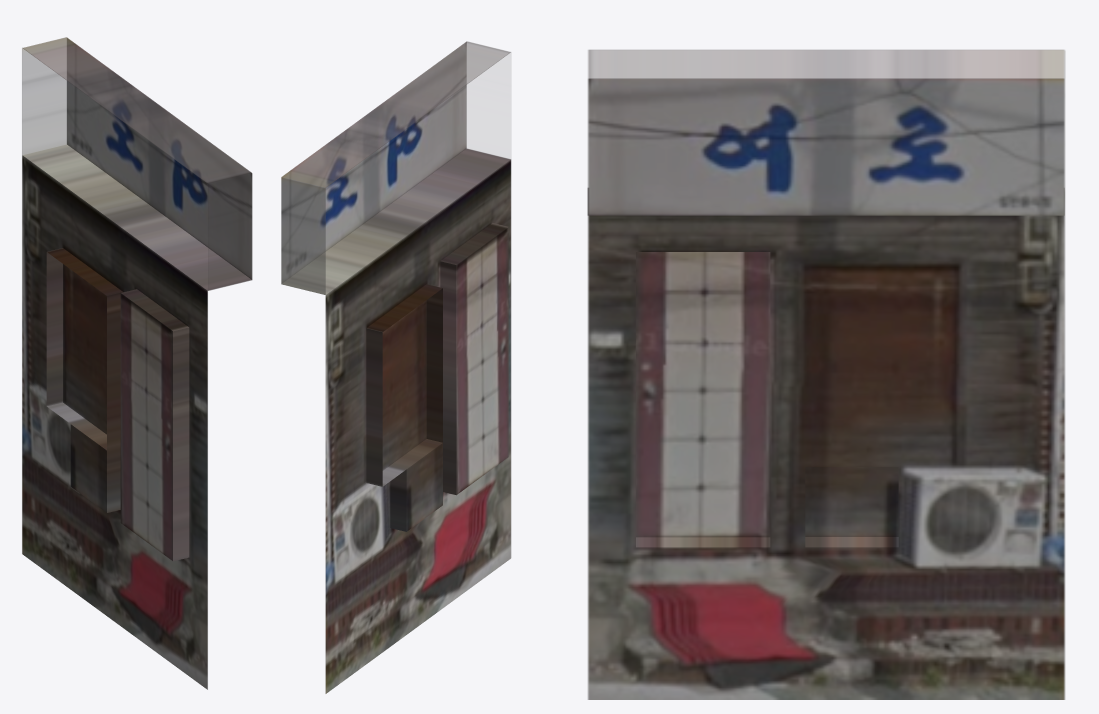
Rendered from store2.glb.
3 views of the same model, side by side, from view 1: azimuth 30°, elevation 25°; view 2: azimuth 150°, elevation 25°; view 3: azimuth 270°, elevation 25° (orthographic). The views are drawn at different scales.
Parts seen in each view (by area): view 1: Screenshot 2023-10-01 at 11.58.09 PM; view 2: Screenshot 2023-10-01 at 11.58.09 PM; view 3: Screenshot 2023-10-01 at 11.58.09 PM.
Boxes of the visible parts, x1,y1,x2,y2 form: Screenshot 2023-10-01 at 11.58.09 PM: [22, 37, 252, 689]; Screenshot 2023-10-01 at 11.58.09 PM: [281, 41, 511, 693]; Screenshot 2023-10-01 at 11.58.09 PM: [587, 50, 1064, 699].
Bounding box in the file's own units: 0.1189 × 1 × 0.702.
1 material, 1 textured.
